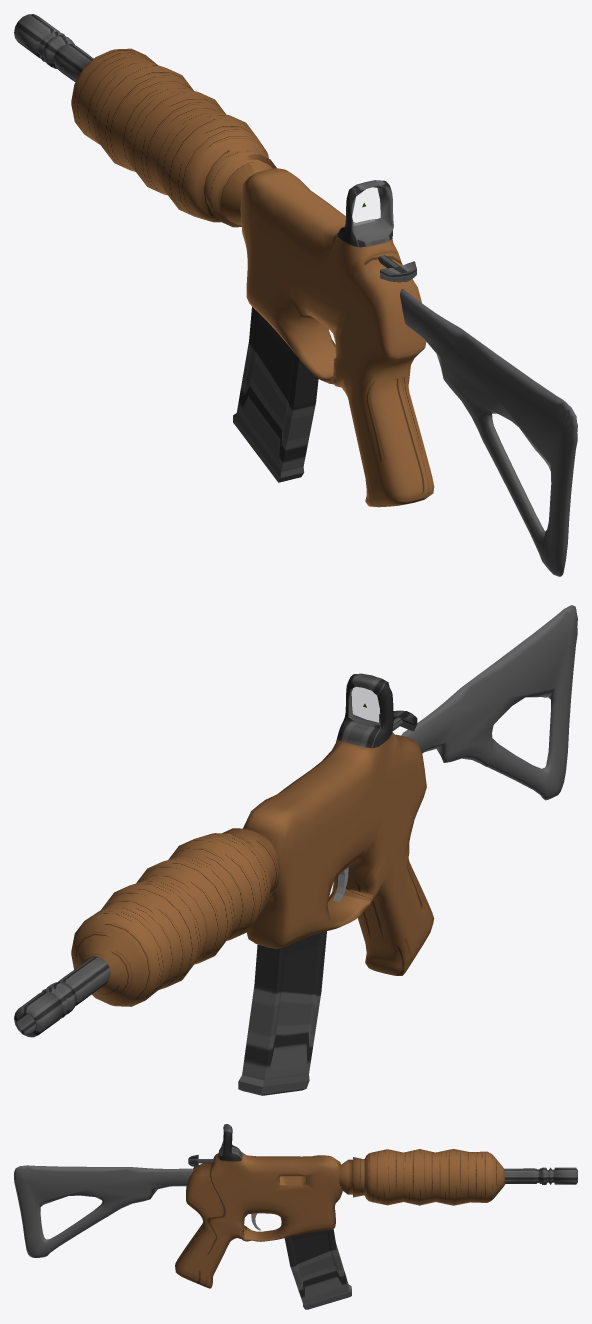
The model's file is item-br15.glb.
3 renders of one model, top to bottom at view 1: azimuth 30°, elevation 25°; view 2: azimuth 150°, elevation 25°; view 3: azimuth 270°, elevation 25°, orthographic. The views are drawn at different scales.
Size of the model in its own units: 0.3274 by 1.14 by 3.24.
Materials: 8 (4 with a texture image).
